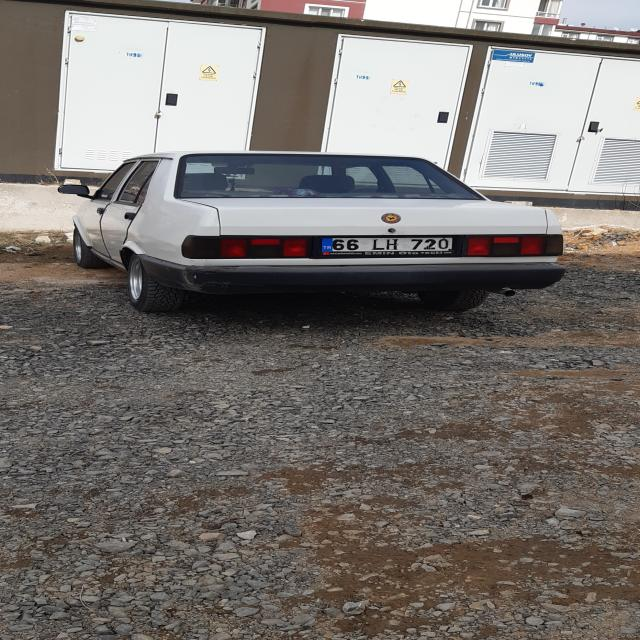license_plate: (320, 237, 453, 252)
